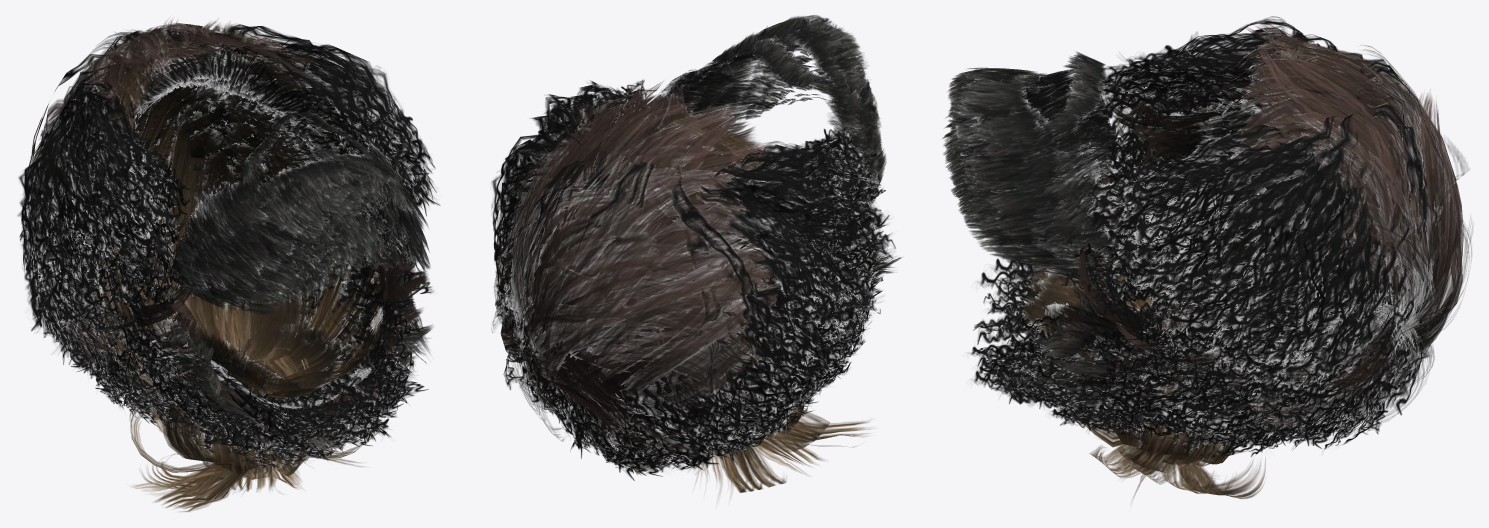
File: hair.glb
The picture shows the model from 3 angles, left to right: view 1: azimuth 30°, elevation 25°; view 2: azimuth 150°, elevation 25°; view 3: azimuth 270°, elevation 25°; orthographic projection. The views are drawn at different scales.
Parts seen in each view (by area): view 1: hair_long, hair_pony, hair_beard, hair_shaggy, hair_short, hair_curly; view 2: hair_shaggy, hair_long, hair_beard, hair_pony; view 3: hair_long, hair_shaggy, hair_beard, hair_pony, hair_short.
Boxes of the visible parts, left/top/right/bottom form: hair_long: left=18, top=24, right=440, bottom=468; hair_pony: left=84, top=35, right=388, bottom=511; hair_beard: left=165, top=110, right=432, bottom=452; hair_shaggy: left=36, top=19, right=428, bottom=438; hair_short: left=124, top=78, right=377, bottom=408; hair_curly: left=180, top=94, right=361, bottom=345; hair_shaggy: left=492, top=82, right=892, bottom=455; hair_long: left=491, top=80, right=895, bottom=480; hair_beard: left=658, top=15, right=902, bottom=317; hair_pony: left=631, top=112, right=870, bottom=496; hair_long: left=970, top=16, right=1444, bottom=461; hair_shaggy: left=1026, top=23, right=1472, bottom=438; hair_beard: left=942, top=52, right=1117, bottom=408; hair_pony: left=1022, top=39, right=1332, bottom=502; hair_short: left=1151, top=92, right=1351, bottom=430.
Size of the model in its own units: 0.2667 by 0.2835 by 0.3029.
6 materials, 6 textured.
